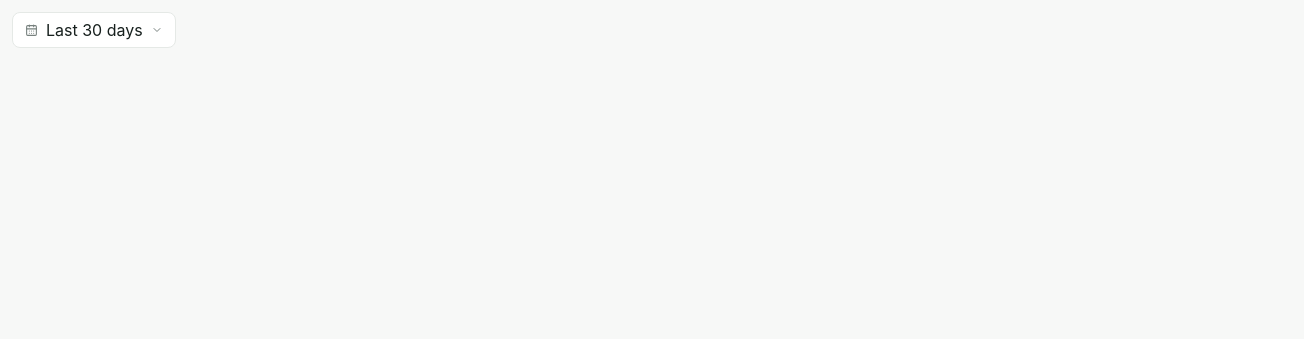
it: analytics date filters › rejects a custom start date later than its end date
Click the button "Last 30 days" at (94, 30), box x1=12 y1=12 x2=176 y2=48
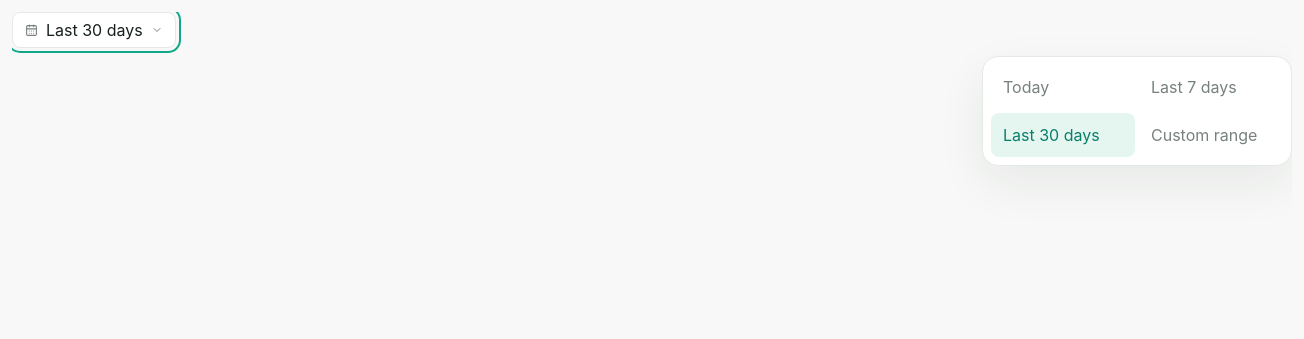
Click the button "Custom range" at (1211, 135), box x1=1139 y1=113 x2=1283 y2=157
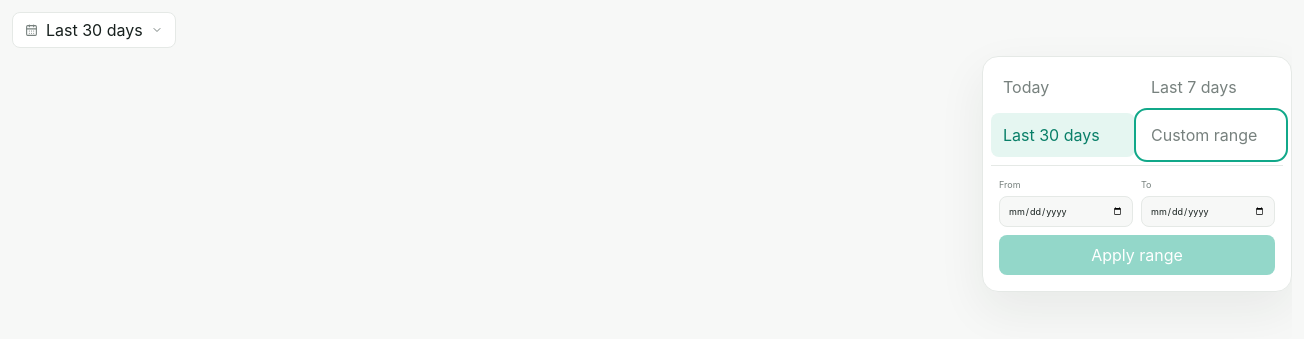
Type "2026-04-06" into the date field labelled "From" at (1066, 211), box x1=999 y1=196 x2=1133 y2=227
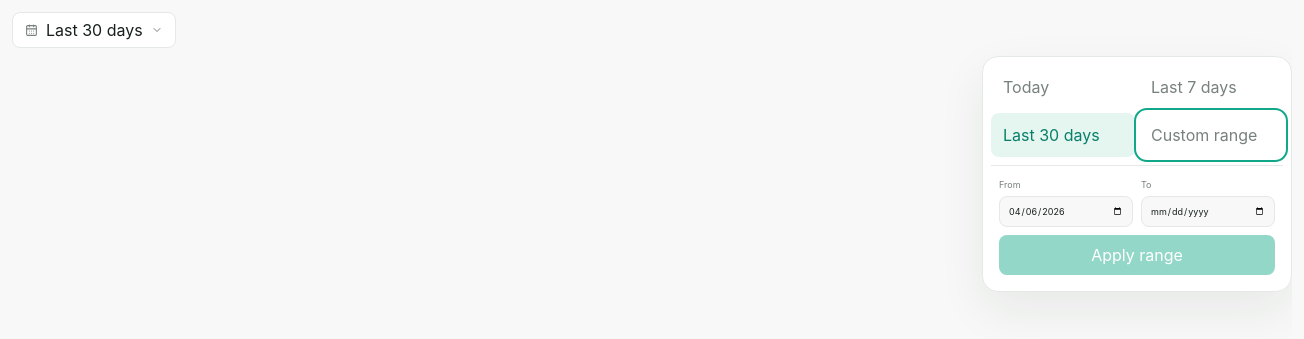
Type "2026-04-05" into the date field labelled "To" at (1208, 211), box x1=1141 y1=196 x2=1275 y2=227
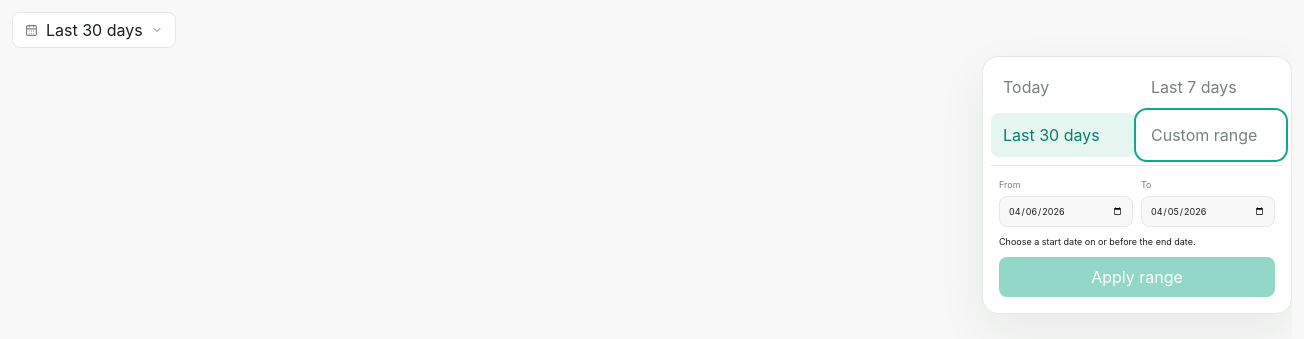
expect the button "Apply range" is disabled: met, box x1=999 y1=256 x2=1275 y2=296
expect the text "Choose a start date on or before the end date." is shown: met, box x1=999 y1=236 x2=1196 y2=247
